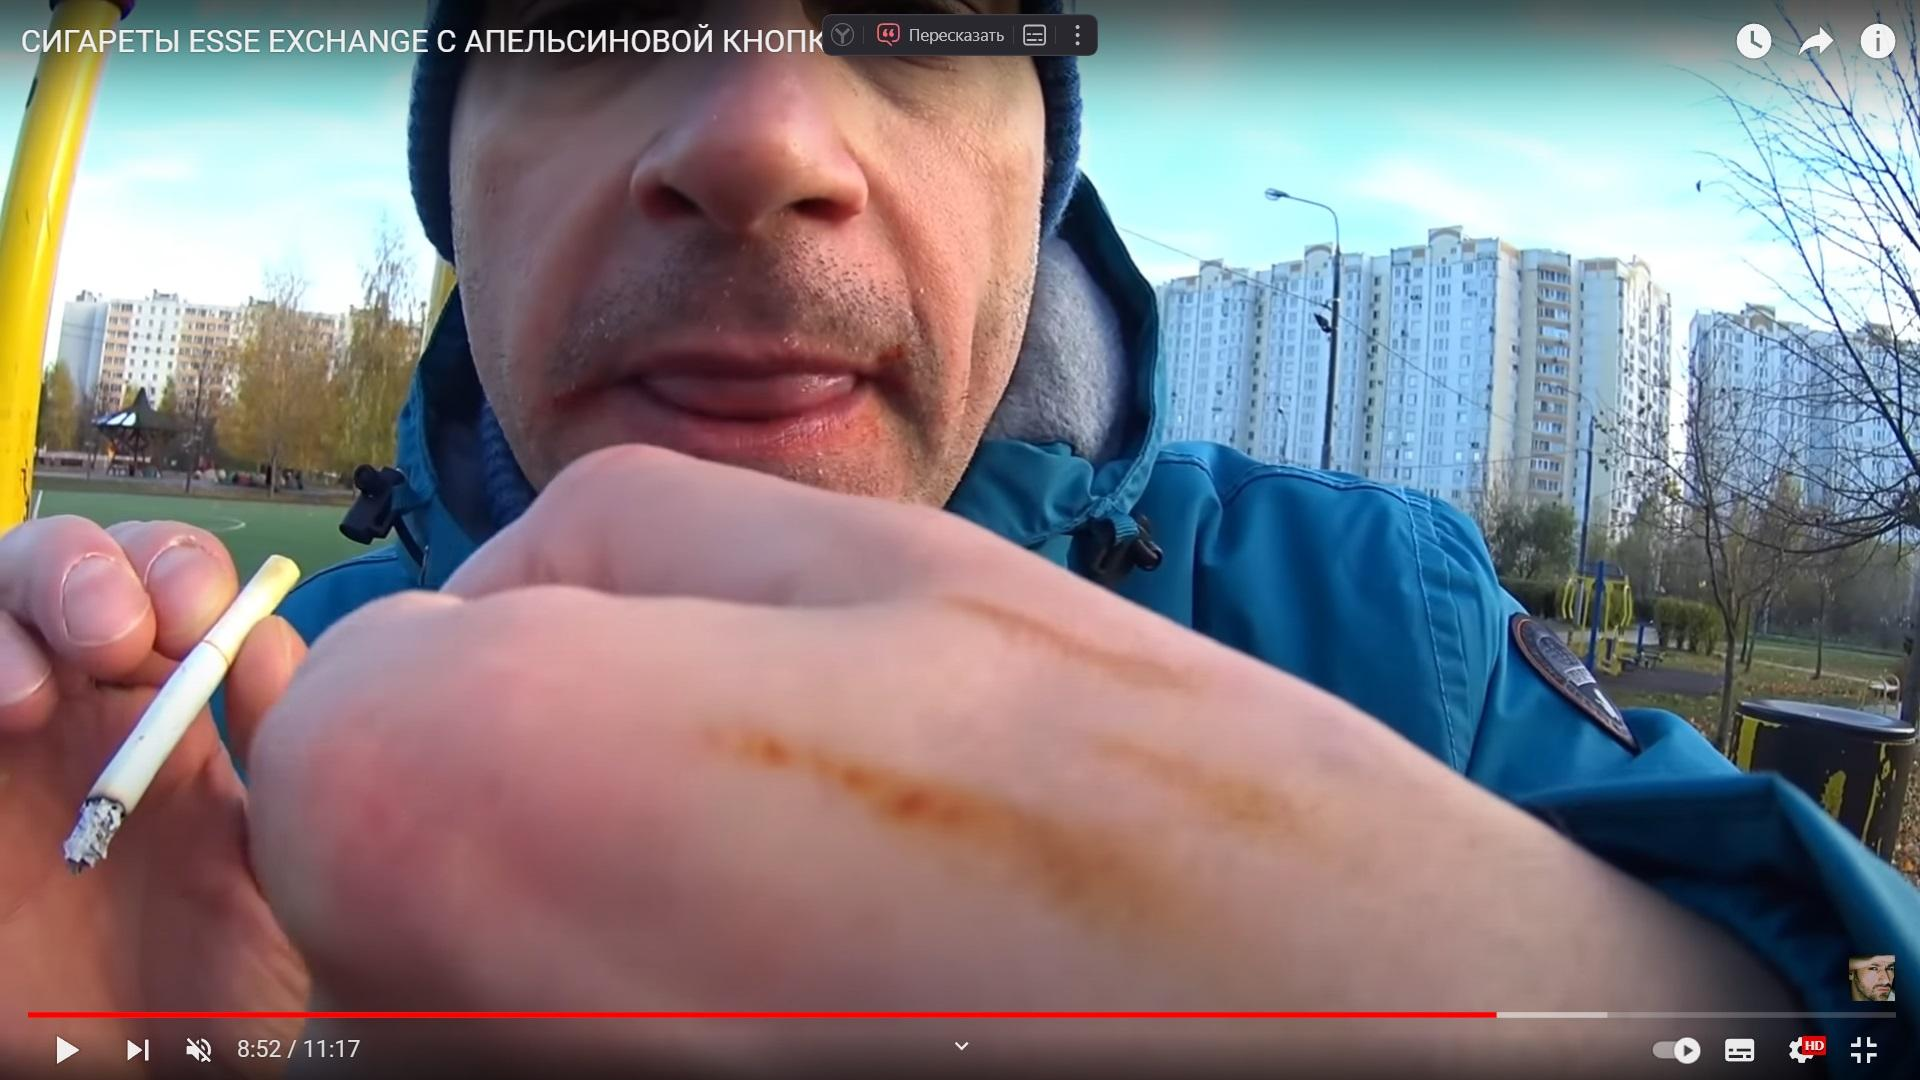cigarette: (63, 555, 301, 874)
